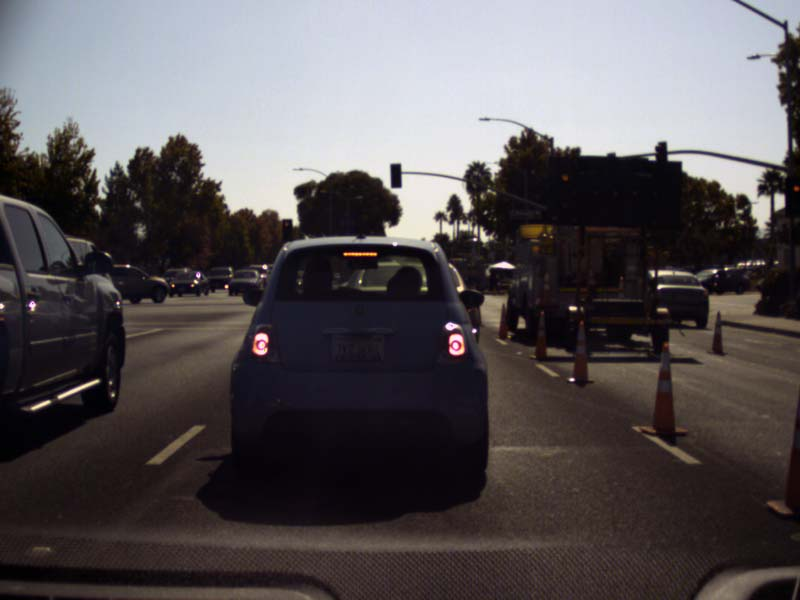Red: (282, 219, 291, 240)
